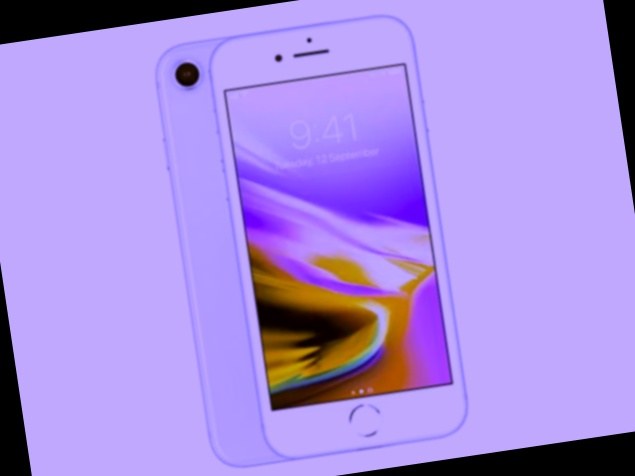iphone: (233, 27, 444, 455)
